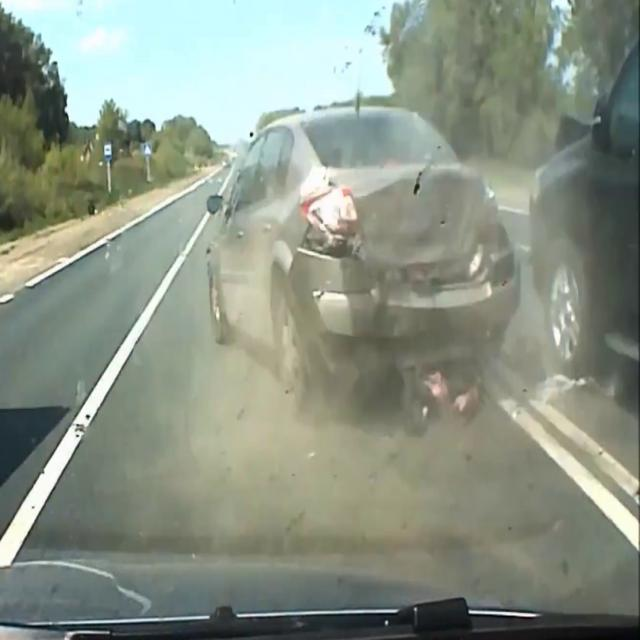accident: (197, 86, 516, 440)
